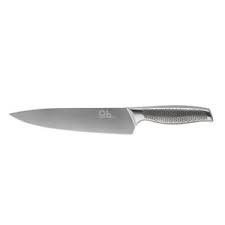Knife: (8, 104, 213, 134)
